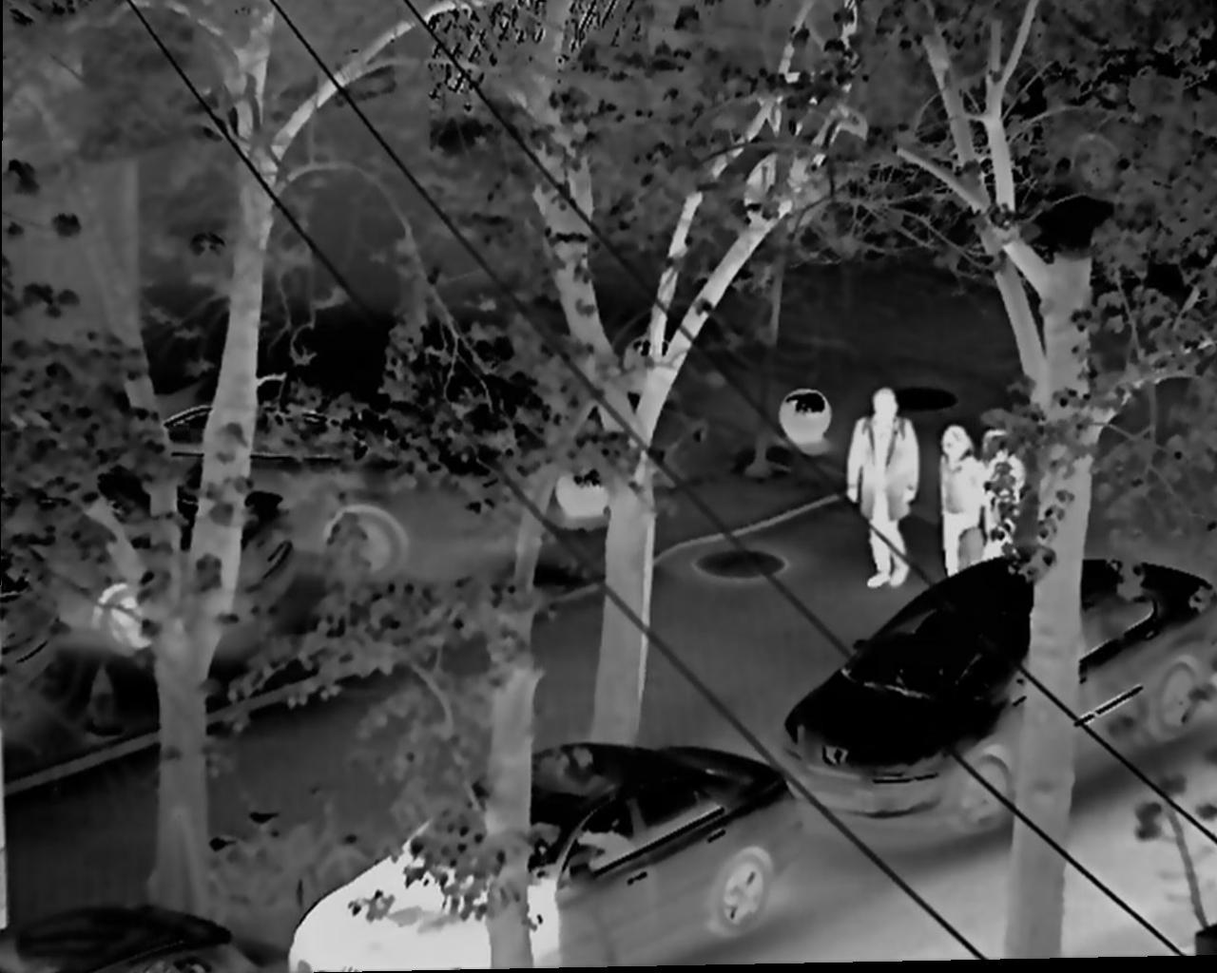person: (837, 381, 926, 587), (918, 407, 979, 592), (976, 425, 1031, 569)
